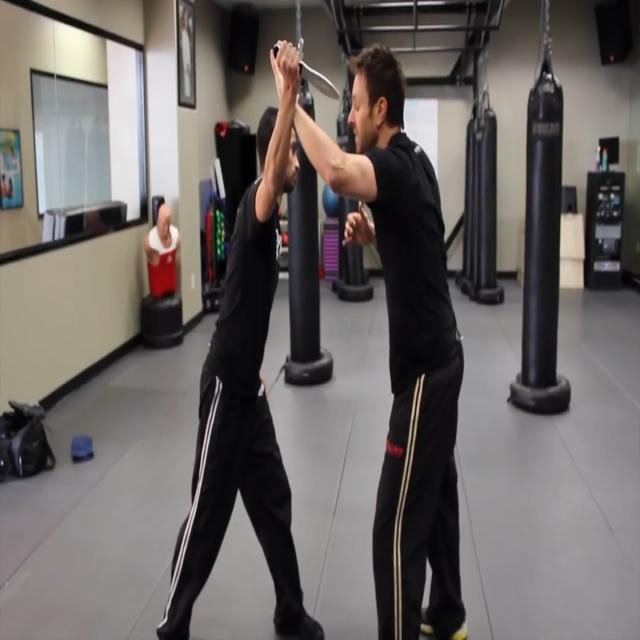knife: (271, 44, 343, 108)
